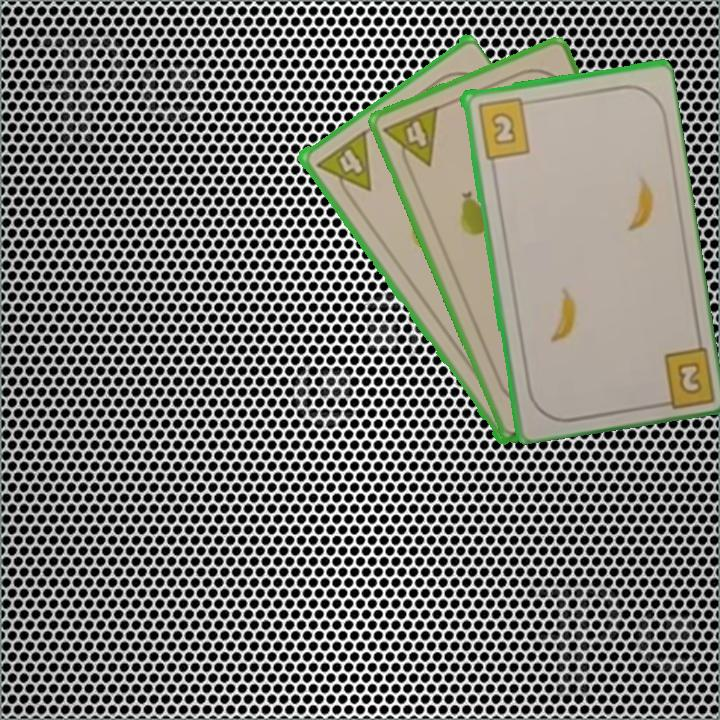2b: (649, 341, 714, 410), (473, 94, 535, 161)
4p: (311, 128, 374, 204), (380, 102, 442, 177)
